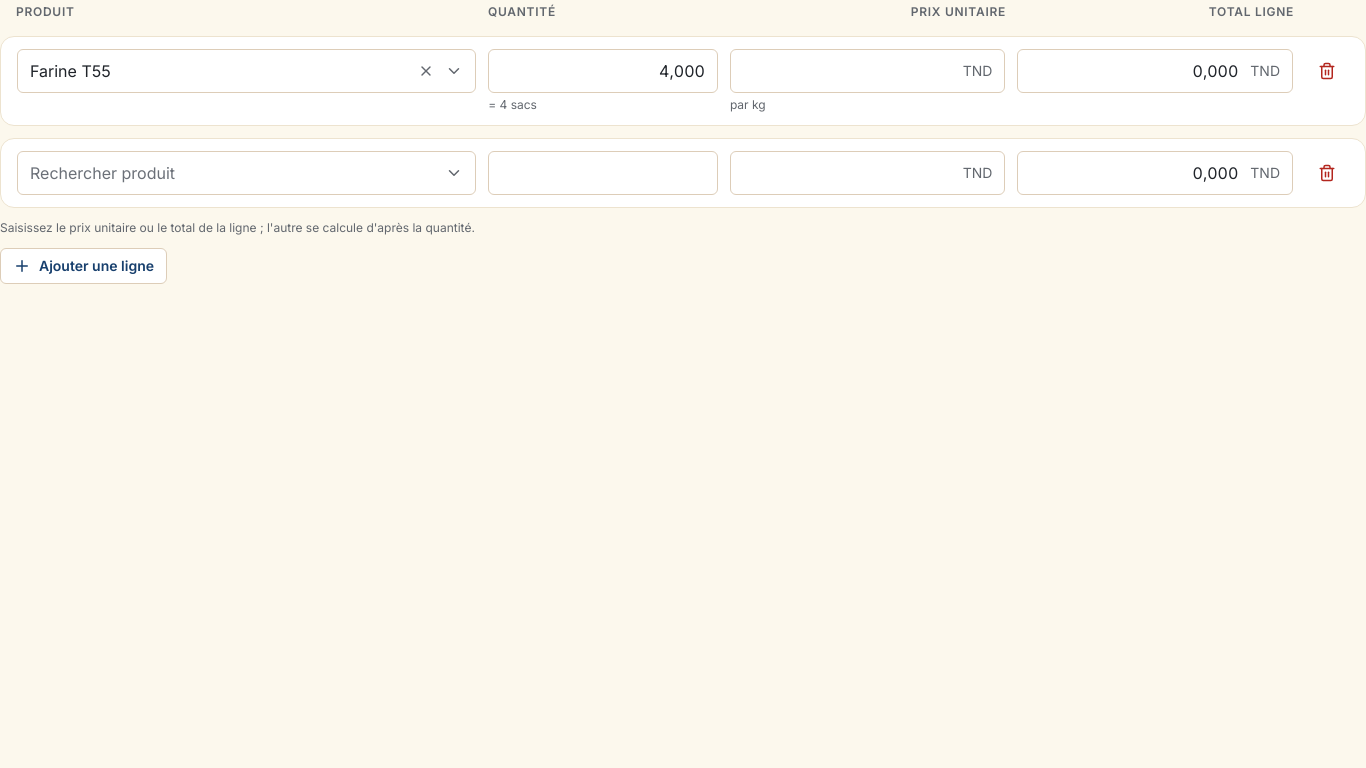
Test: LineEditor › one line per item and hints (issue 016) › leaves out of a line's picker what the other lines hold
Click the dropdown named "Produit 2" at (103, 173), box x1=17 y1=151 x2=476 y2=195
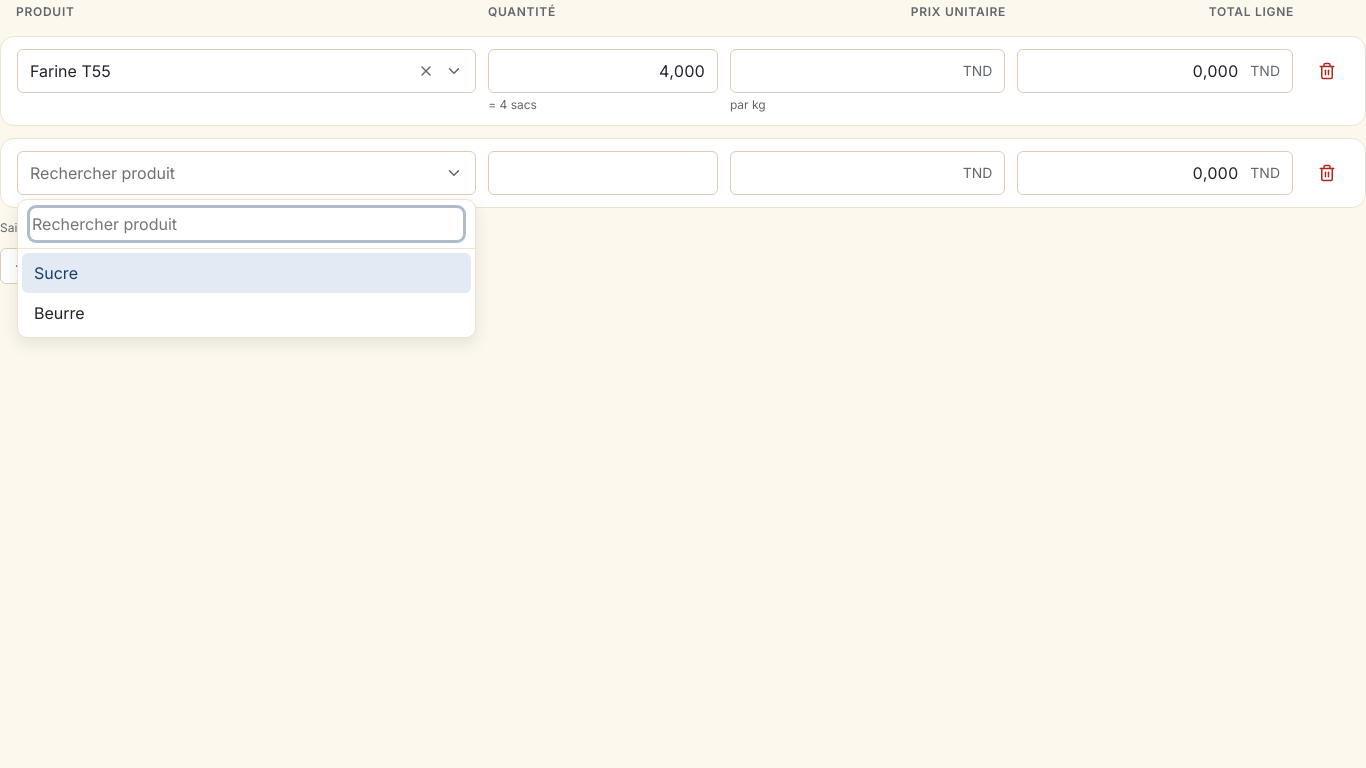
Now the option "Beurre" is shown, box x1=34 y1=303 x2=85 y2=323
Click the option "Sucre" at (56, 273), box x1=22 y1=253 x2=471 y2=293
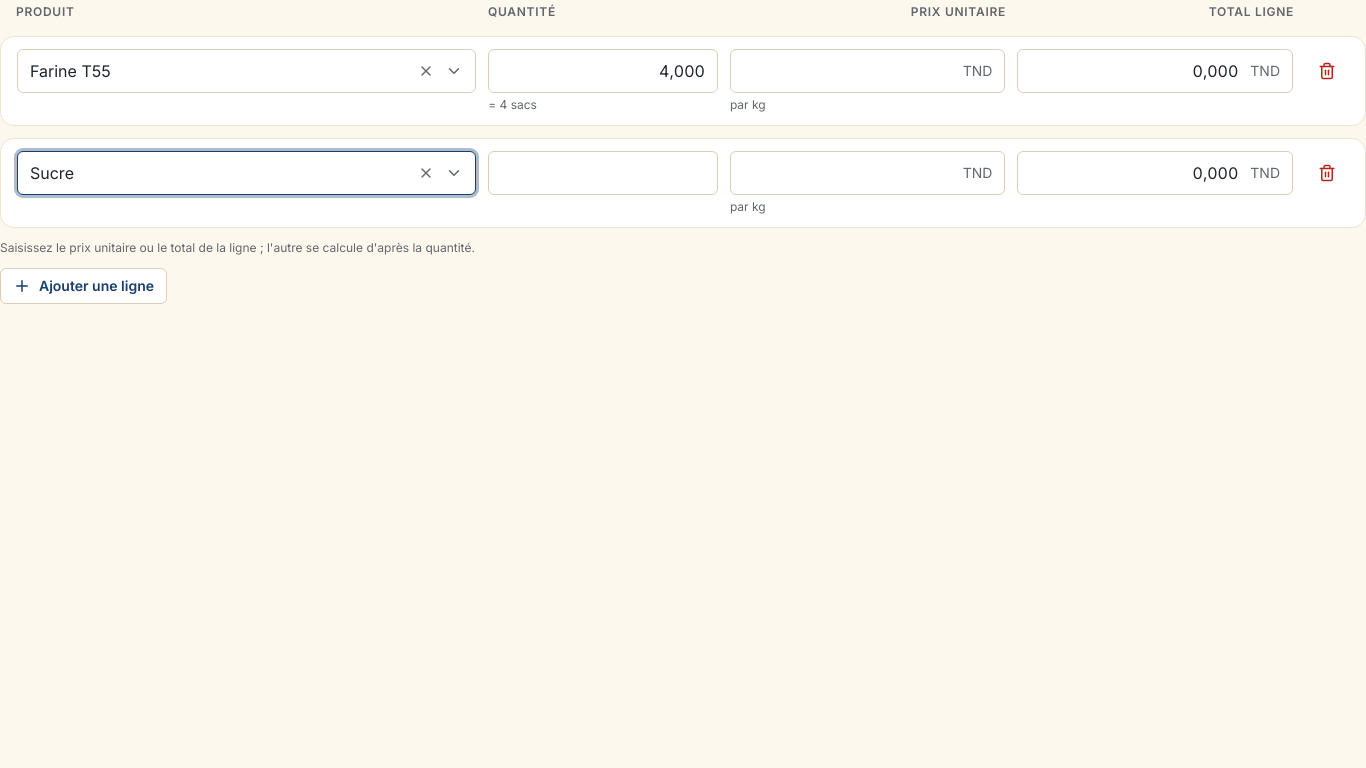
Click the dropdown named "Produit 1" at (70, 71), box x1=17 y1=49 x2=476 y2=93
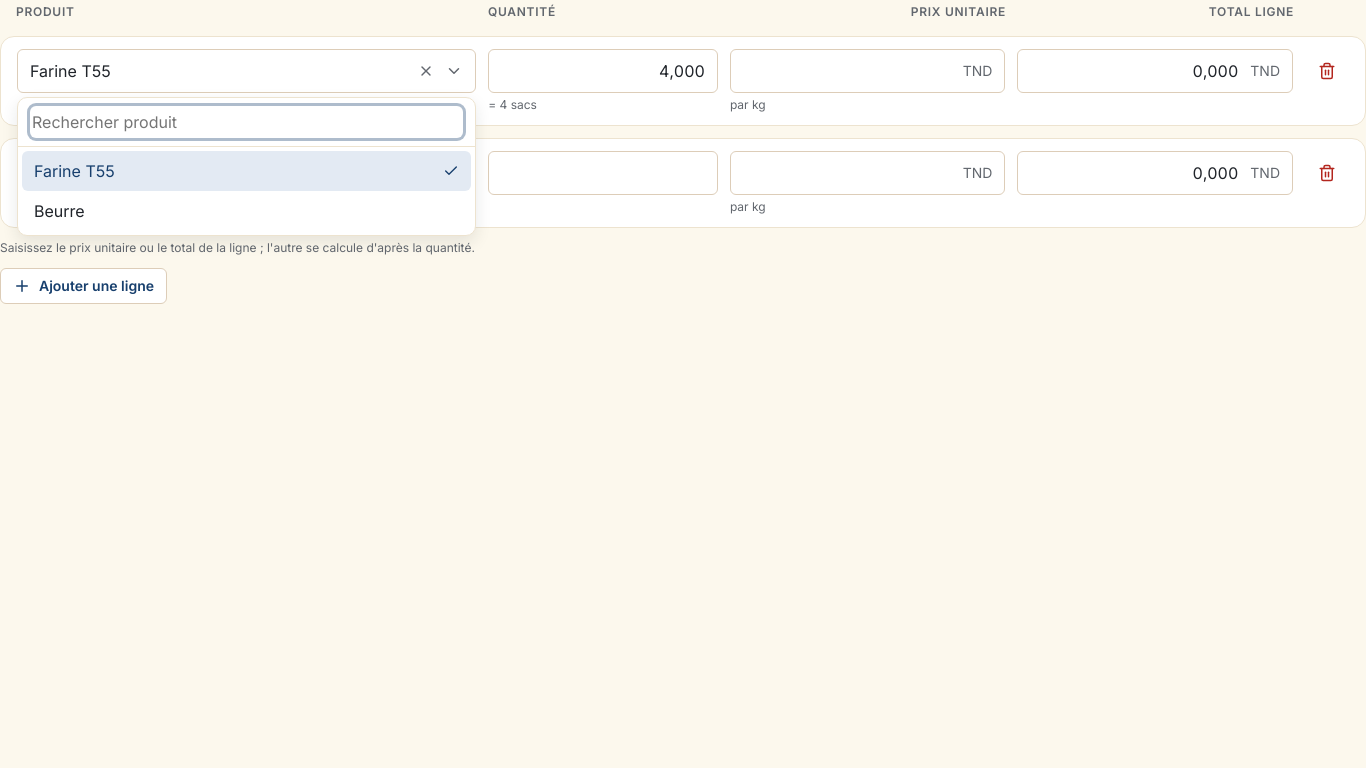
Now the option "Beurre" is shown, box x1=34 y1=201 x2=85 y2=221
